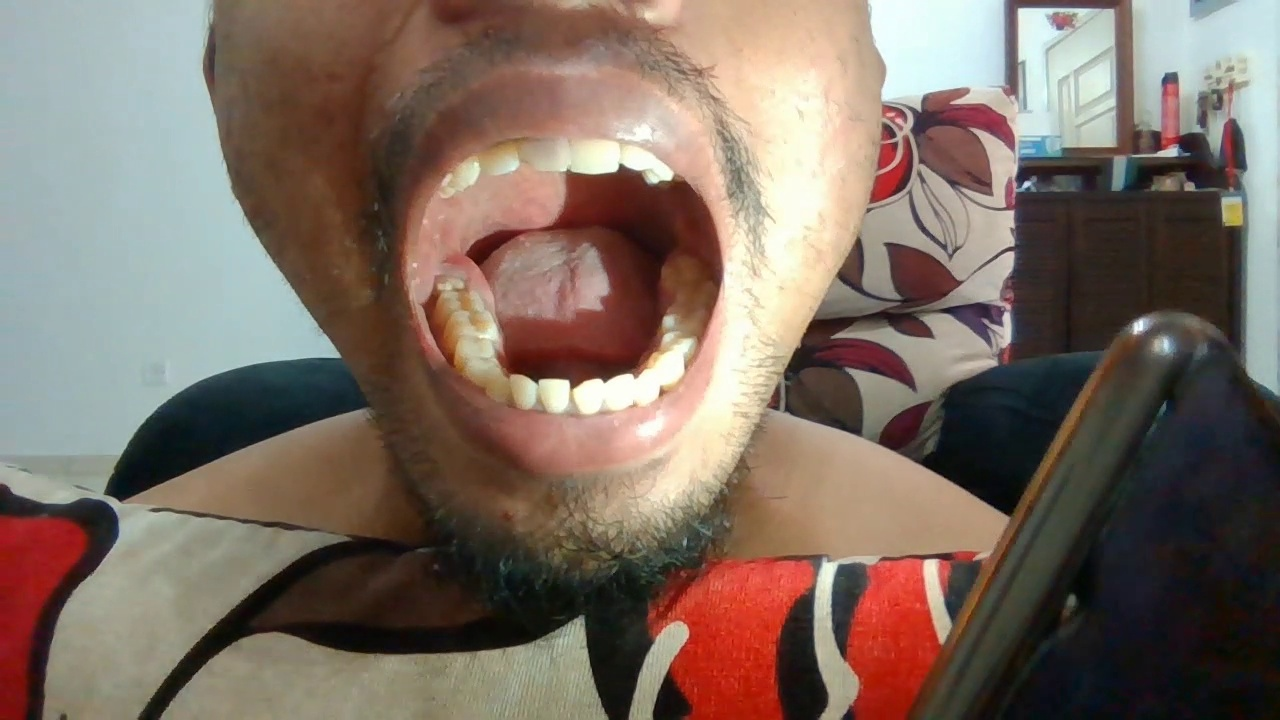1st Molar: (443, 311, 500, 338), (664, 305, 710, 332)
1st Premolar: (649, 347, 684, 389), (463, 357, 502, 385)
2nd Molar: (674, 282, 715, 306), (435, 292, 486, 310)
2nd Premolar: (455, 337, 498, 357), (660, 333, 702, 349)
3rd Molar: (663, 256, 707, 283), (435, 274, 465, 291)
Canine: (636, 368, 661, 406), (643, 159, 674, 188), (454, 156, 480, 189), (487, 367, 510, 404)
Central Incisor: (570, 138, 621, 175), (518, 139, 570, 172), (572, 378, 604, 416), (540, 379, 571, 413)
Lateral Incisor: (480, 139, 518, 176), (604, 372, 636, 411), (510, 373, 540, 410), (621, 145, 656, 172)
